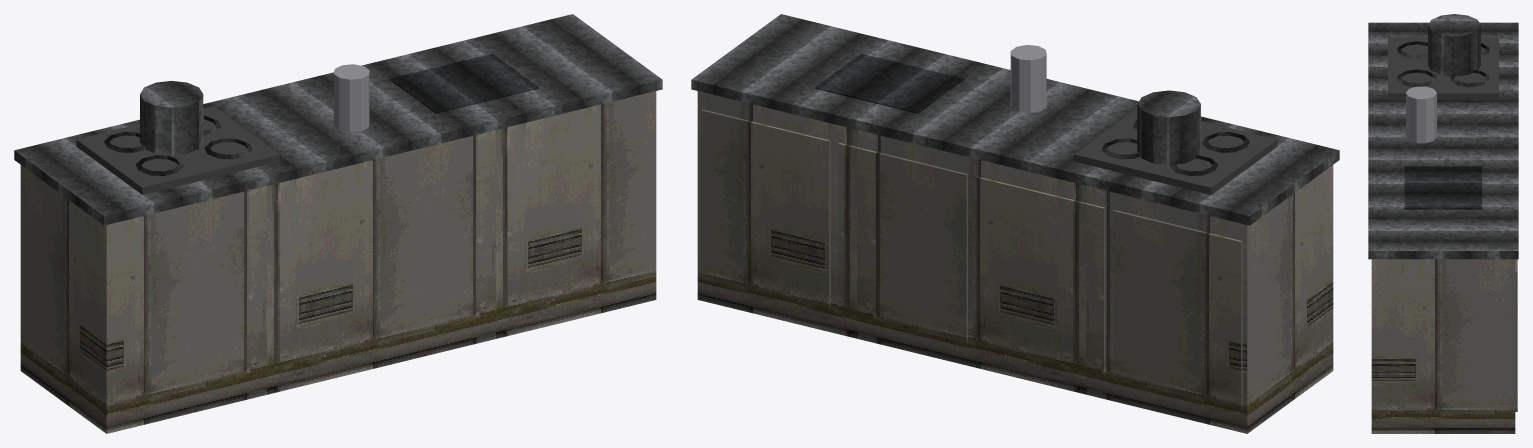
The model's file is counter.glb.
3 renders of one model, left to right at view 1: azimuth 30°, elevation 25°; view 2: azimuth 150°, elevation 25°; view 3: azimuth 270°, elevation 25°, orthographic. The views are drawn at different scales.
Parts seen in each view (by area): view 1: counter; view 2: counter; view 3: counter.
Part boxes in pixels (box(x1,y1,x2,y2)): counter: box(14, 14, 662, 433); counter: box(691, 14, 1339, 433); counter: box(1368, 14, 1518, 433).
Size of the model in its own units: 2.44 by 1.15 by 0.68.
6 materials, 4 textured.
